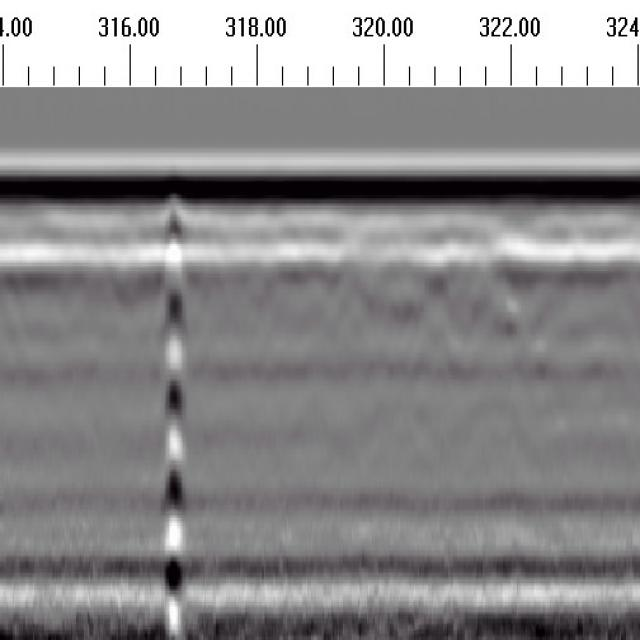crack: (160, 191, 186, 640)
